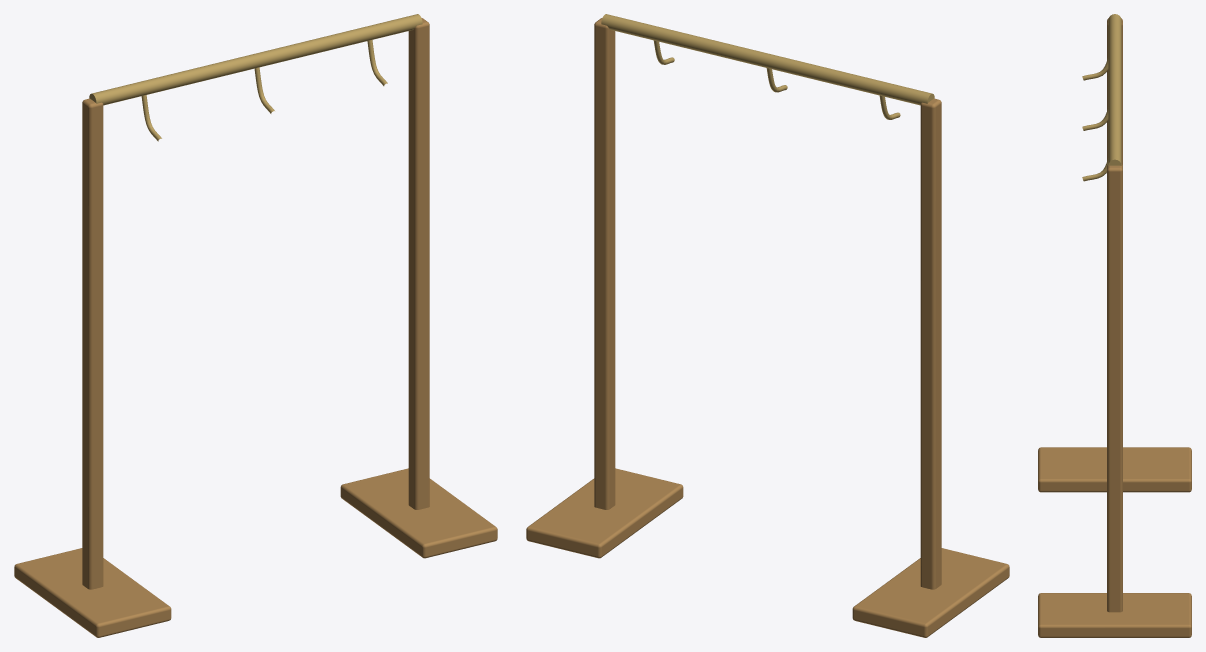
The model's file is abandoned-puppet-theatre-and-prop-vault-marionette-han-ed6f1de6__31078.glb.
3 renders of one model, left to right at view 1: azimuth 30°, elevation 25°; view 2: azimuth 150°, elevation 25°; view 3: azimuth 270°, elevation 25°, orthographic. The views are drawn at different scales.
Parts seen in each view (by area): view 1: marionette-hanging-rail; view 2: marionette-hanging-rail; view 3: marionette-hanging-rail.
Boxes of the visible parts, x1,y1,x2,y2 form: marionette-hanging-rail: (14, 14, 497, 637); marionette-hanging-rail: (526, 14, 1009, 637); marionette-hanging-rail: (1038, 14, 1191, 637).
Bounding box in the file's own units: 1.6 × 1.92 × 0.5799.
